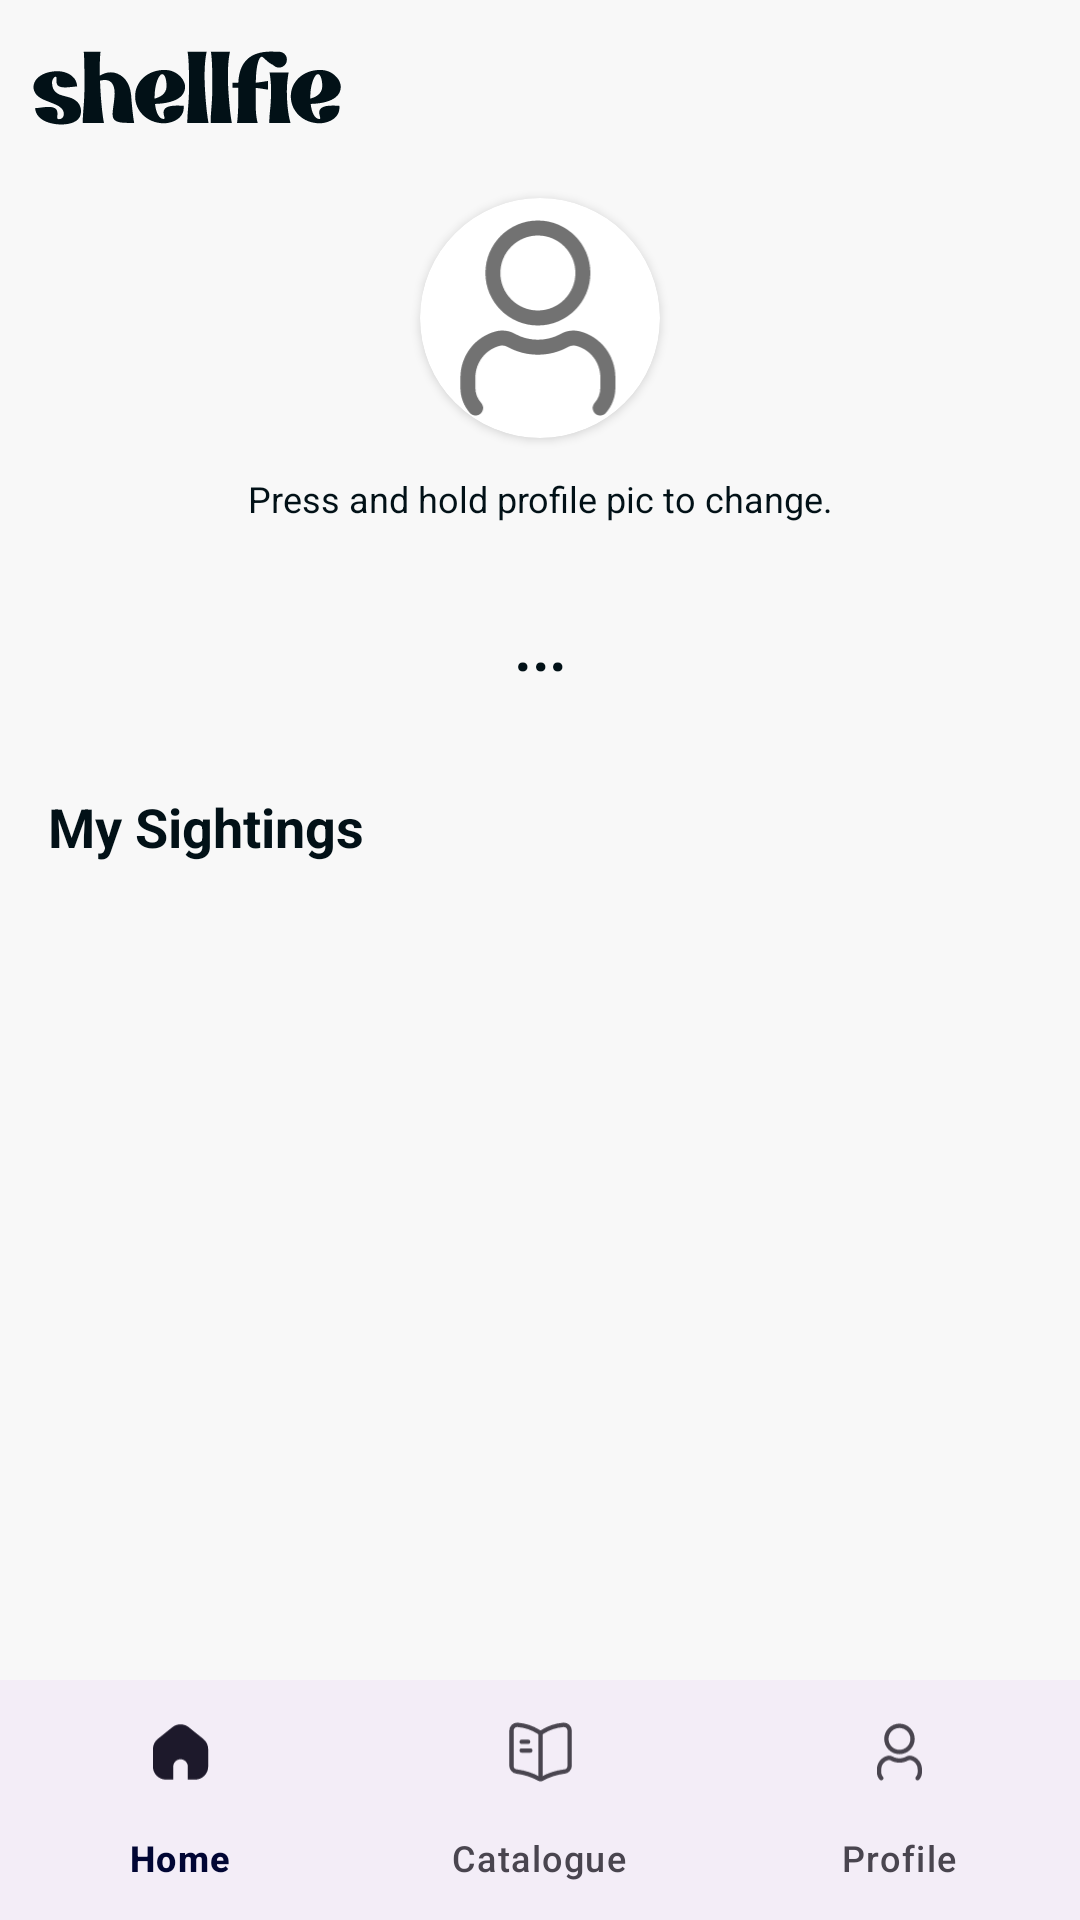

Screen size 1080x1920. Icon name, then its center in pixels as (x=x, y=y):
user: (x=538, y=318)
